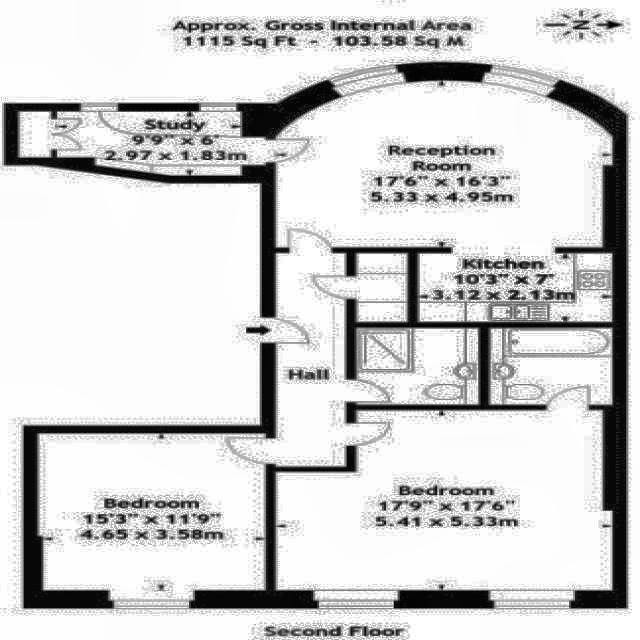room: (275, 409, 613, 590), (275, 81, 612, 247), (38, 434, 265, 590), (19, 111, 265, 176), (277, 253, 346, 466), (419, 254, 614, 322), (490, 328, 612, 404), (357, 328, 478, 404), (356, 253, 407, 322)
